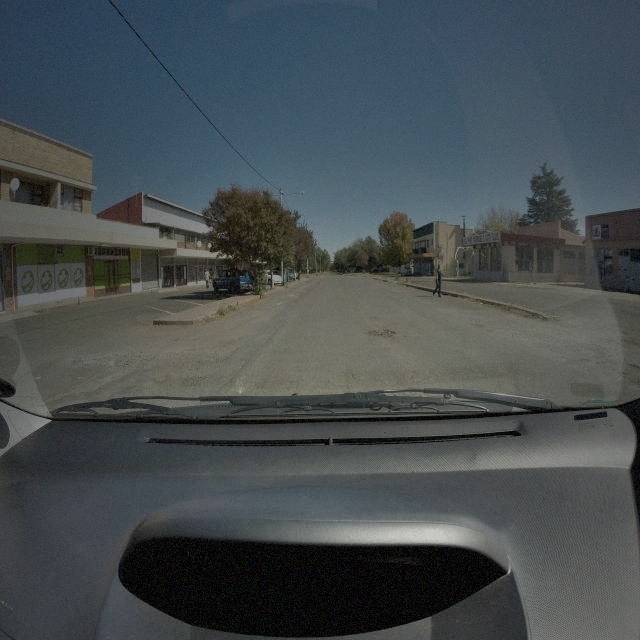pothole: (371, 326, 396, 339)
